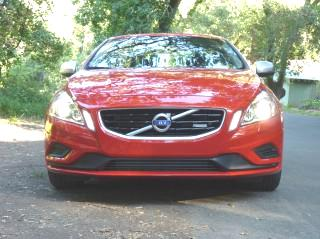volvo: (145, 108, 180, 139)
